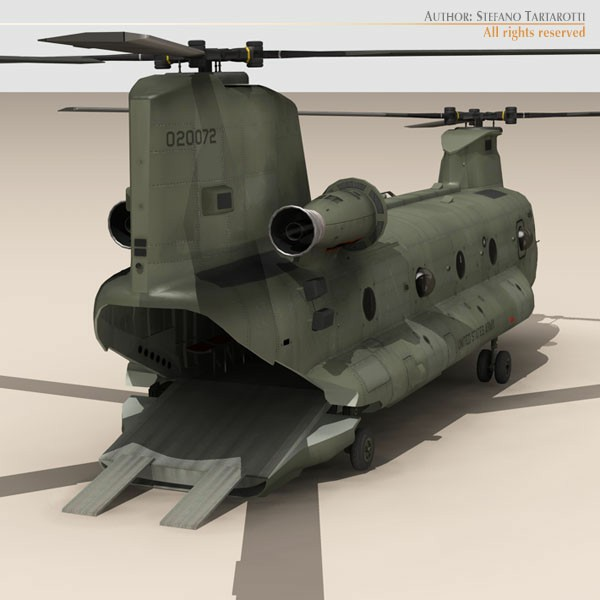chinook: (18, 39, 592, 524)
